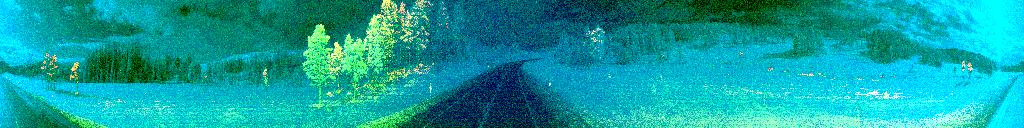pole: (428, 80, 434, 102)
